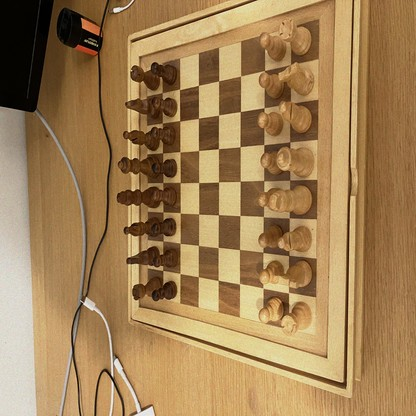bishop_black: (124, 130, 159, 149), (124, 220, 152, 236)
bishop_white: (280, 102, 312, 131), (280, 226, 313, 252)
king_black: (119, 157, 157, 176)
king_white: (271, 186, 312, 213)
knight_black: (126, 98, 159, 117), (128, 248, 158, 266)
knight_white: (280, 62, 314, 97), (280, 260, 312, 288)
pawn_black: (151, 61, 177, 84), (152, 96, 177, 117), (152, 282, 178, 302), (152, 218, 176, 236), (152, 159, 177, 176), (155, 250, 178, 268), (152, 190, 177, 205), (152, 127, 174, 143)
pawn_white: (260, 33, 285, 59), (260, 72, 284, 97), (258, 224, 283, 247), (258, 113, 283, 136), (260, 298, 283, 322), (262, 262, 284, 283), (262, 151, 281, 174), (259, 189, 280, 209)
queen_black: (118, 188, 161, 208)
queen_white: (278, 147, 314, 178)
rock_black: (131, 66, 161, 89), (133, 276, 162, 298)
rock_white: (281, 18, 312, 54), (282, 303, 311, 335)
